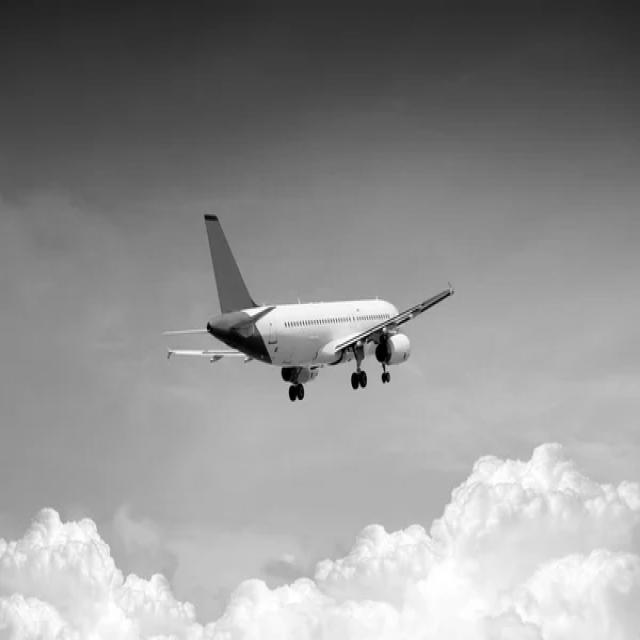Aircraft: (164, 208, 460, 408)
